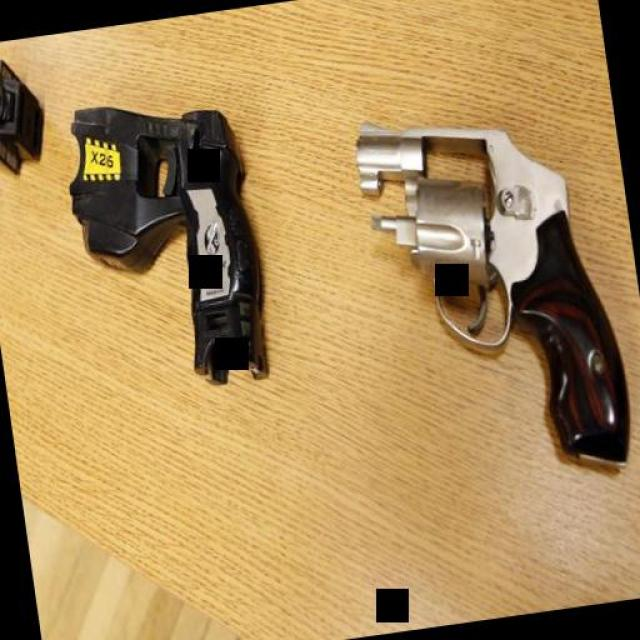gun: (346, 66, 640, 532)
